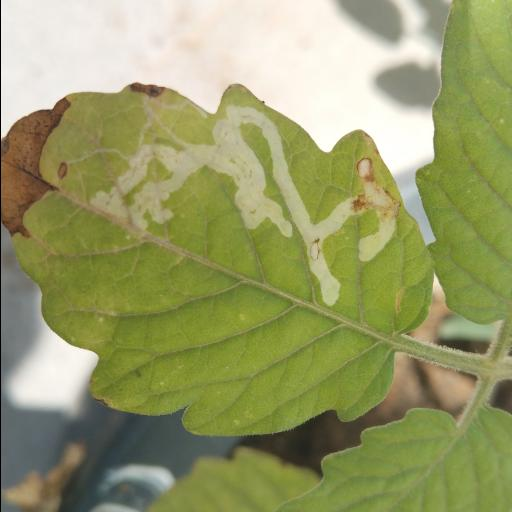disease_tomato: (12, 82, 436, 434)
